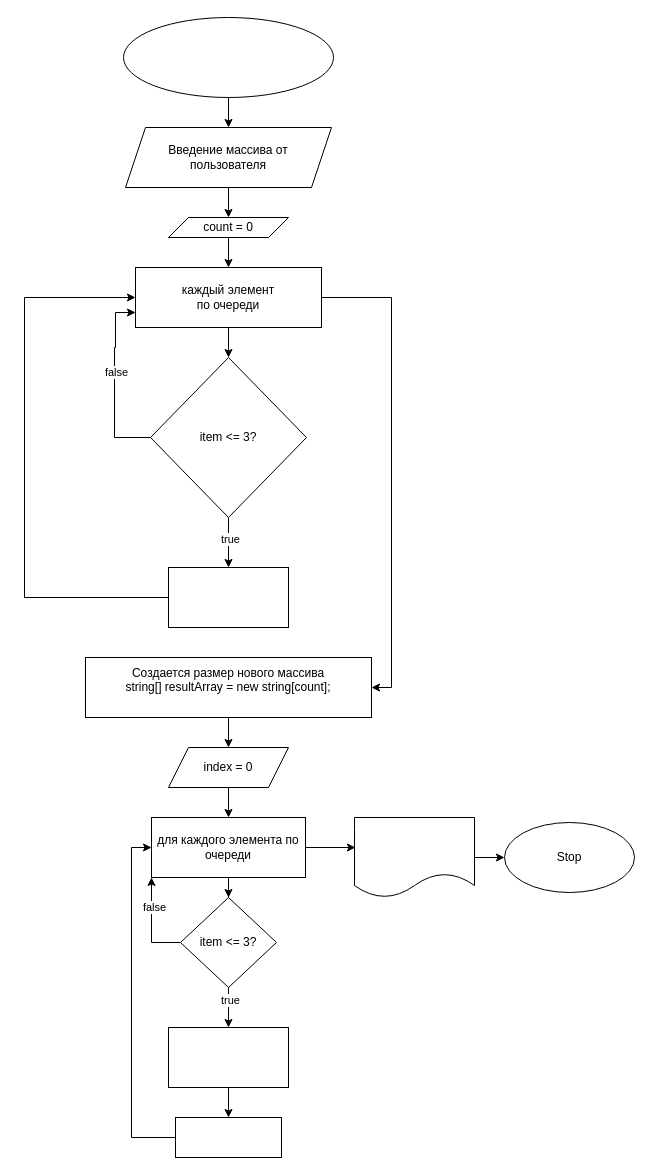
The diagram is 652 pixels wide and 1175 high, and some of its shapes have lost their labels. Each missing label, with the centre of its shape:
"count++" belongs at point (228, 597).
"index++" belongs at point (228, 1137).
"Start" belongs at point (228, 57).
"Вывод нового массива" belongs at point (414, 857).
"Заполнение нового массива" belongs at point (228, 1057).
